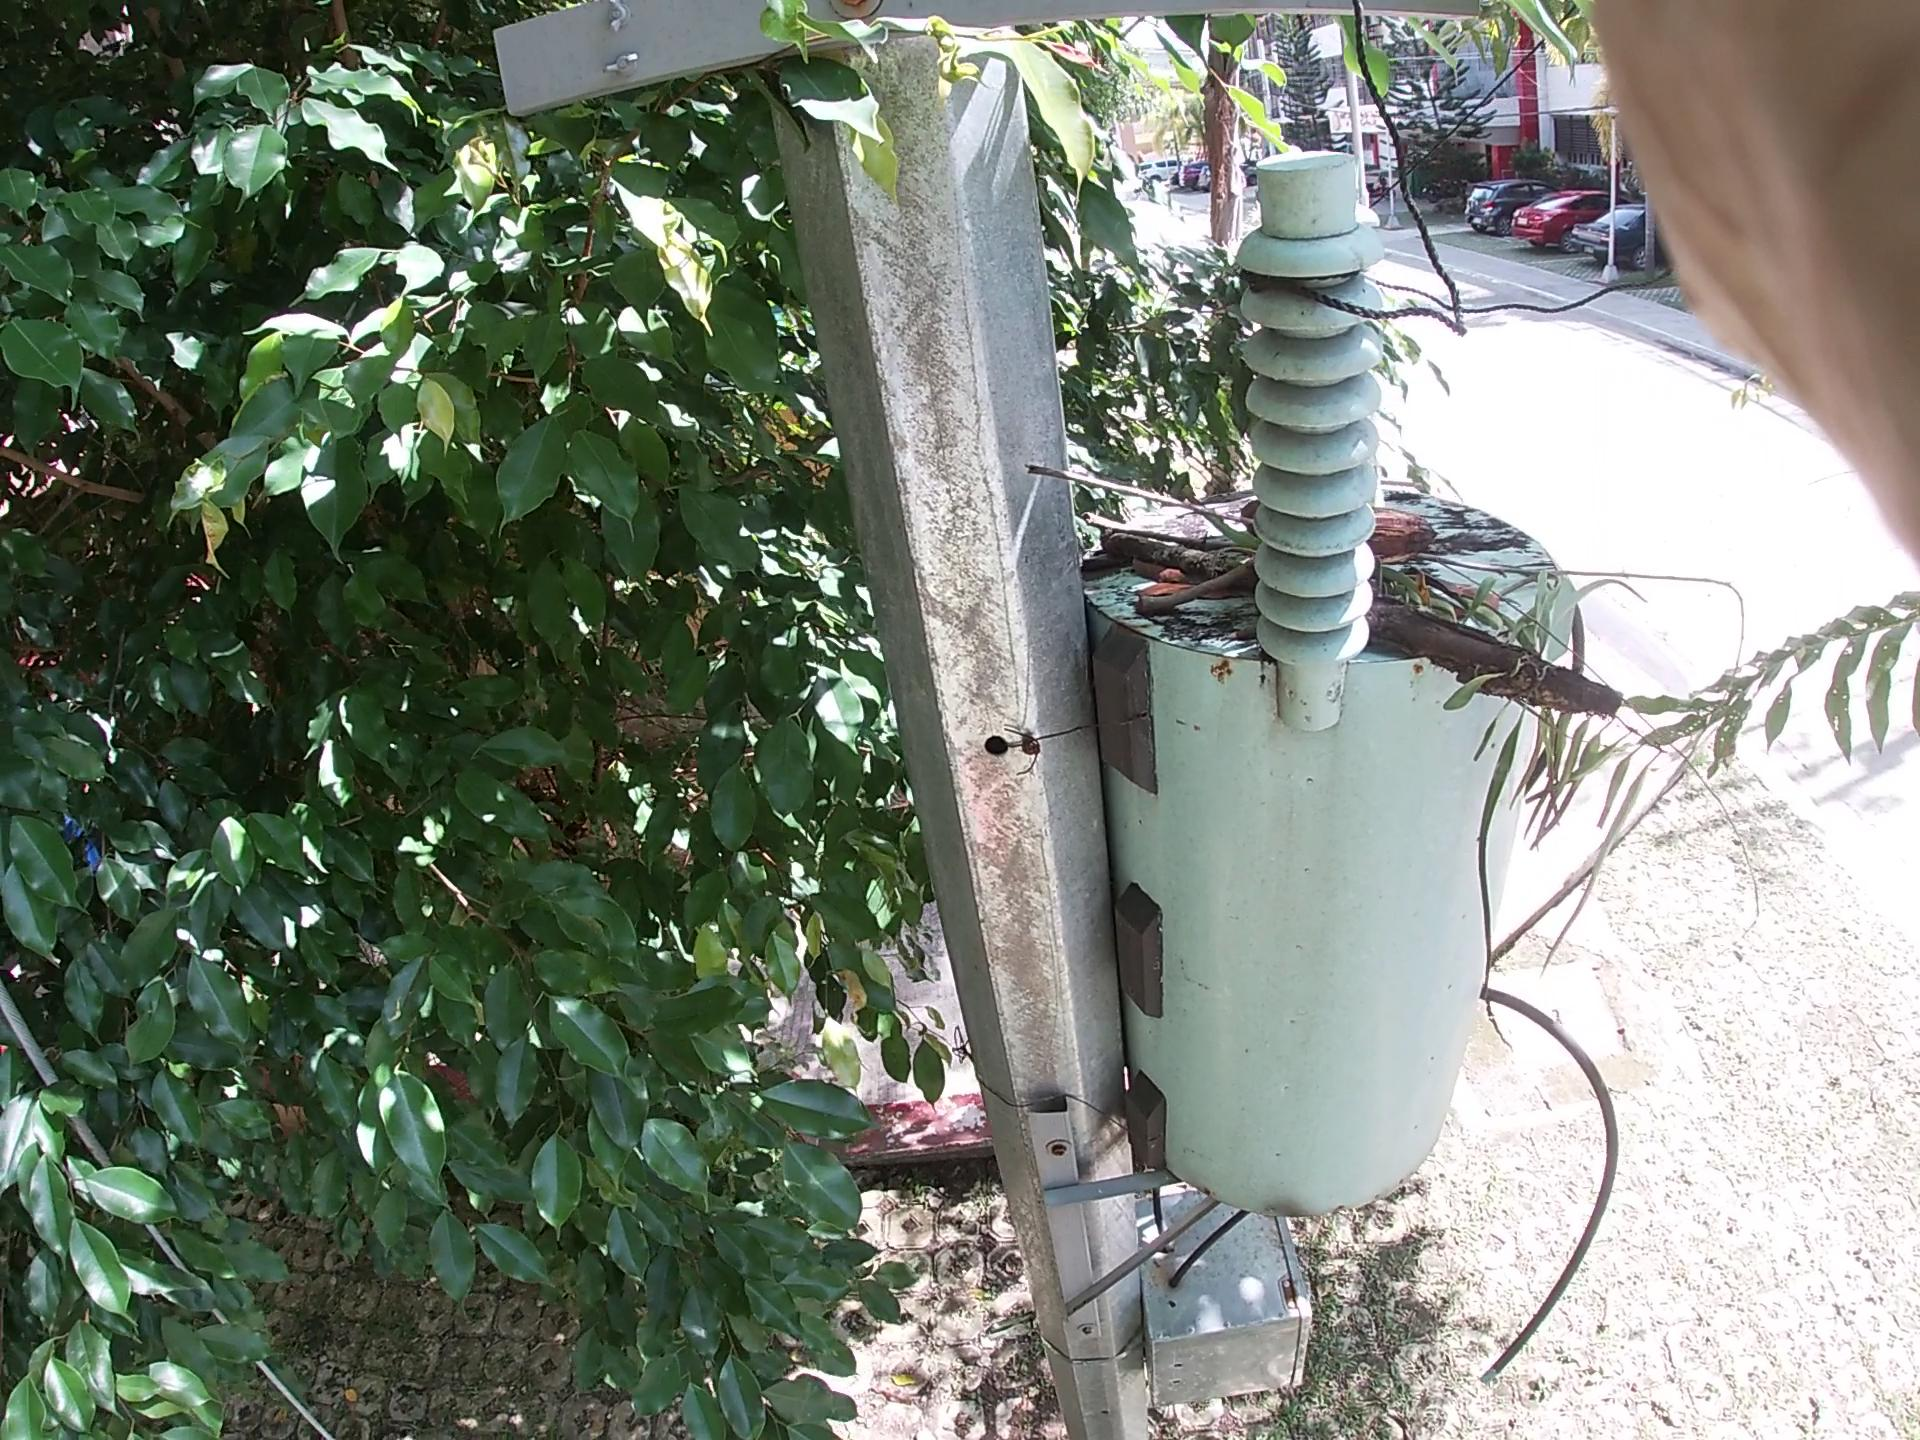branch with leaves: (1108, 513, 1637, 744)
leaf: (1105, 546, 1285, 641)
mahogany fruit: (1197, 466, 1459, 554)
tree branch: (1120, 479, 1757, 650), (1119, 540, 1250, 637)
